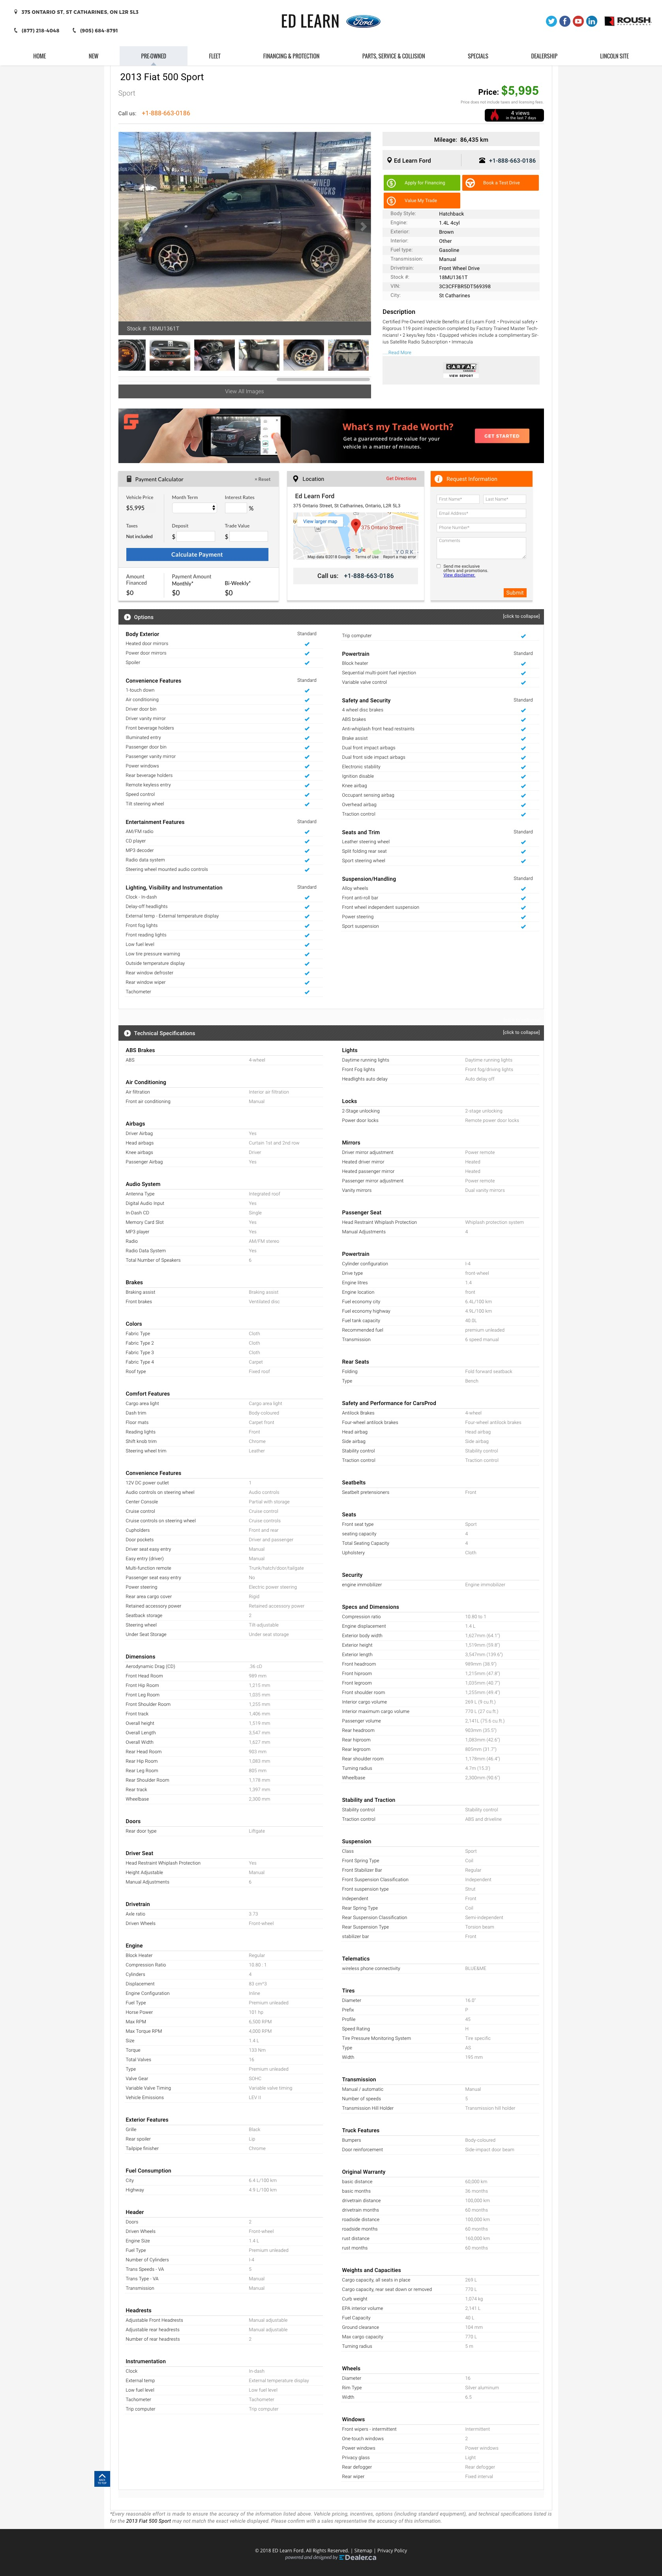car: (355, 218, 371, 235)
